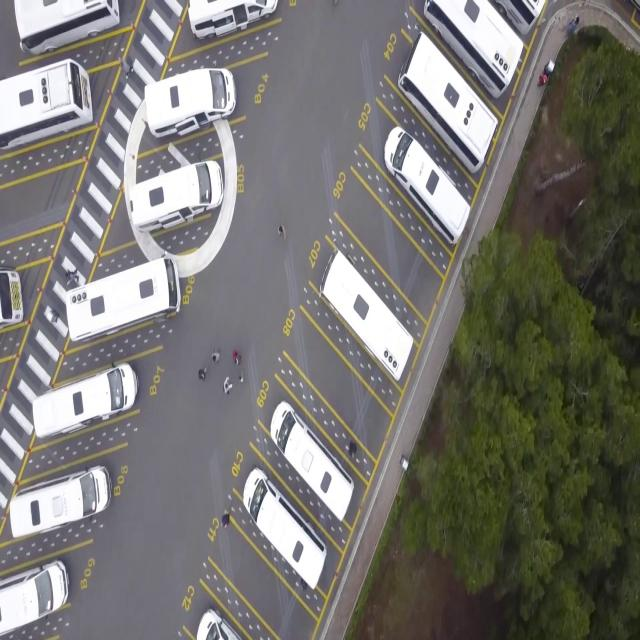people: (120, 60, 133, 79), (65, 268, 79, 284), (223, 376, 234, 395), (198, 366, 208, 382), (349, 438, 357, 458), (233, 350, 241, 366), (212, 347, 220, 362), (278, 225, 286, 240), (222, 512, 230, 526), (239, 372, 245, 384)
